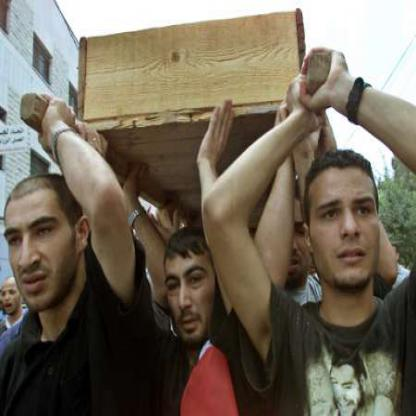face: (3, 177, 80, 316), (311, 152, 381, 296), (162, 230, 225, 352), (268, 192, 317, 285), (1, 279, 22, 317)
